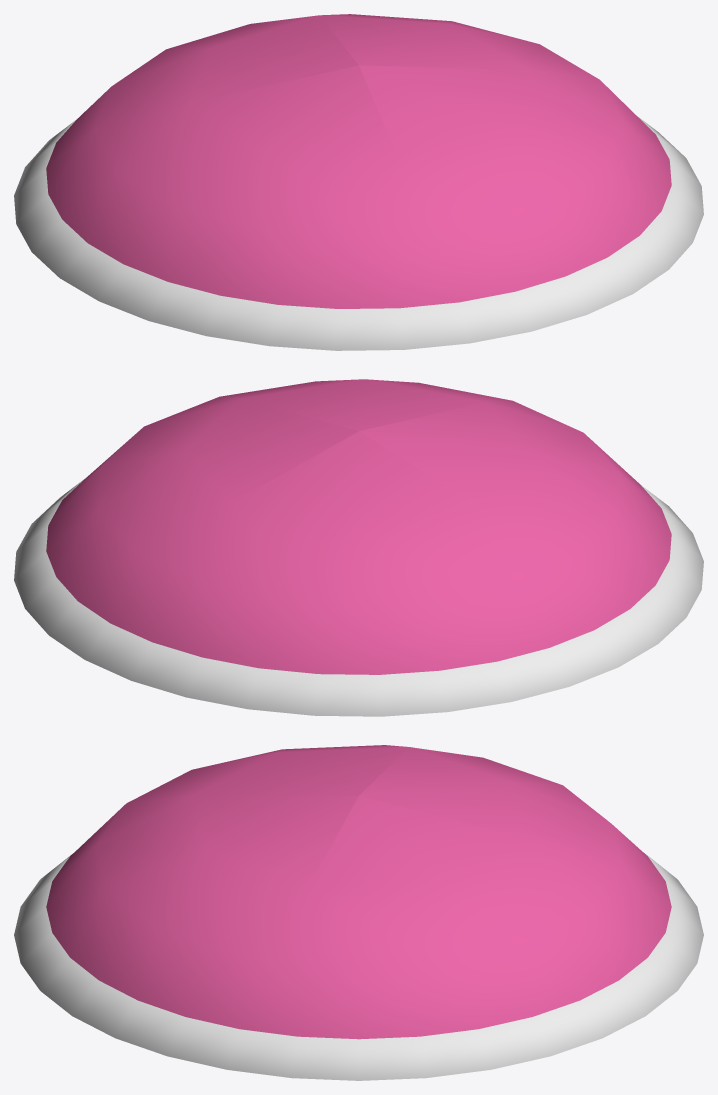
File: SM_CeilingCircleLamp_LOD1.fbx
3 renders of one model, top to bottom at view 1: azimuth 30°, elevation 25°; view 2: azimuth 150°, elevation 25°; view 3: azimuth 270°, elevation 25°, orthographic.
Visible parts, largest first — view 1: SM_Lamp_Ceiling_Circle_LOD1; view 2: SM_Lamp_Ceiling_Circle_LOD1; view 3: SM_Lamp_Ceiling_Circle_LOD1.
Boxes of the visible parts, x1,y1,x2,y2 form: SM_Lamp_Ceiling_Circle_LOD1: (14,14,703,350); SM_Lamp_Ceiling_Circle_LOD1: (14,379,703,716); SM_Lamp_Ceiling_Circle_LOD1: (14,745,703,1080).
Size of the model in its own units: 90.12 by 20.09 by 90.12.
